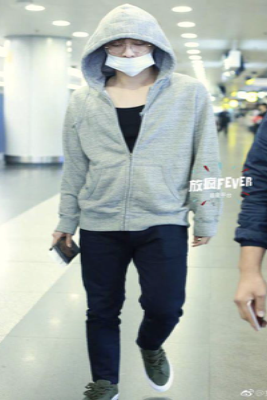mask_weared_incorrect: (103, 40, 156, 77)
